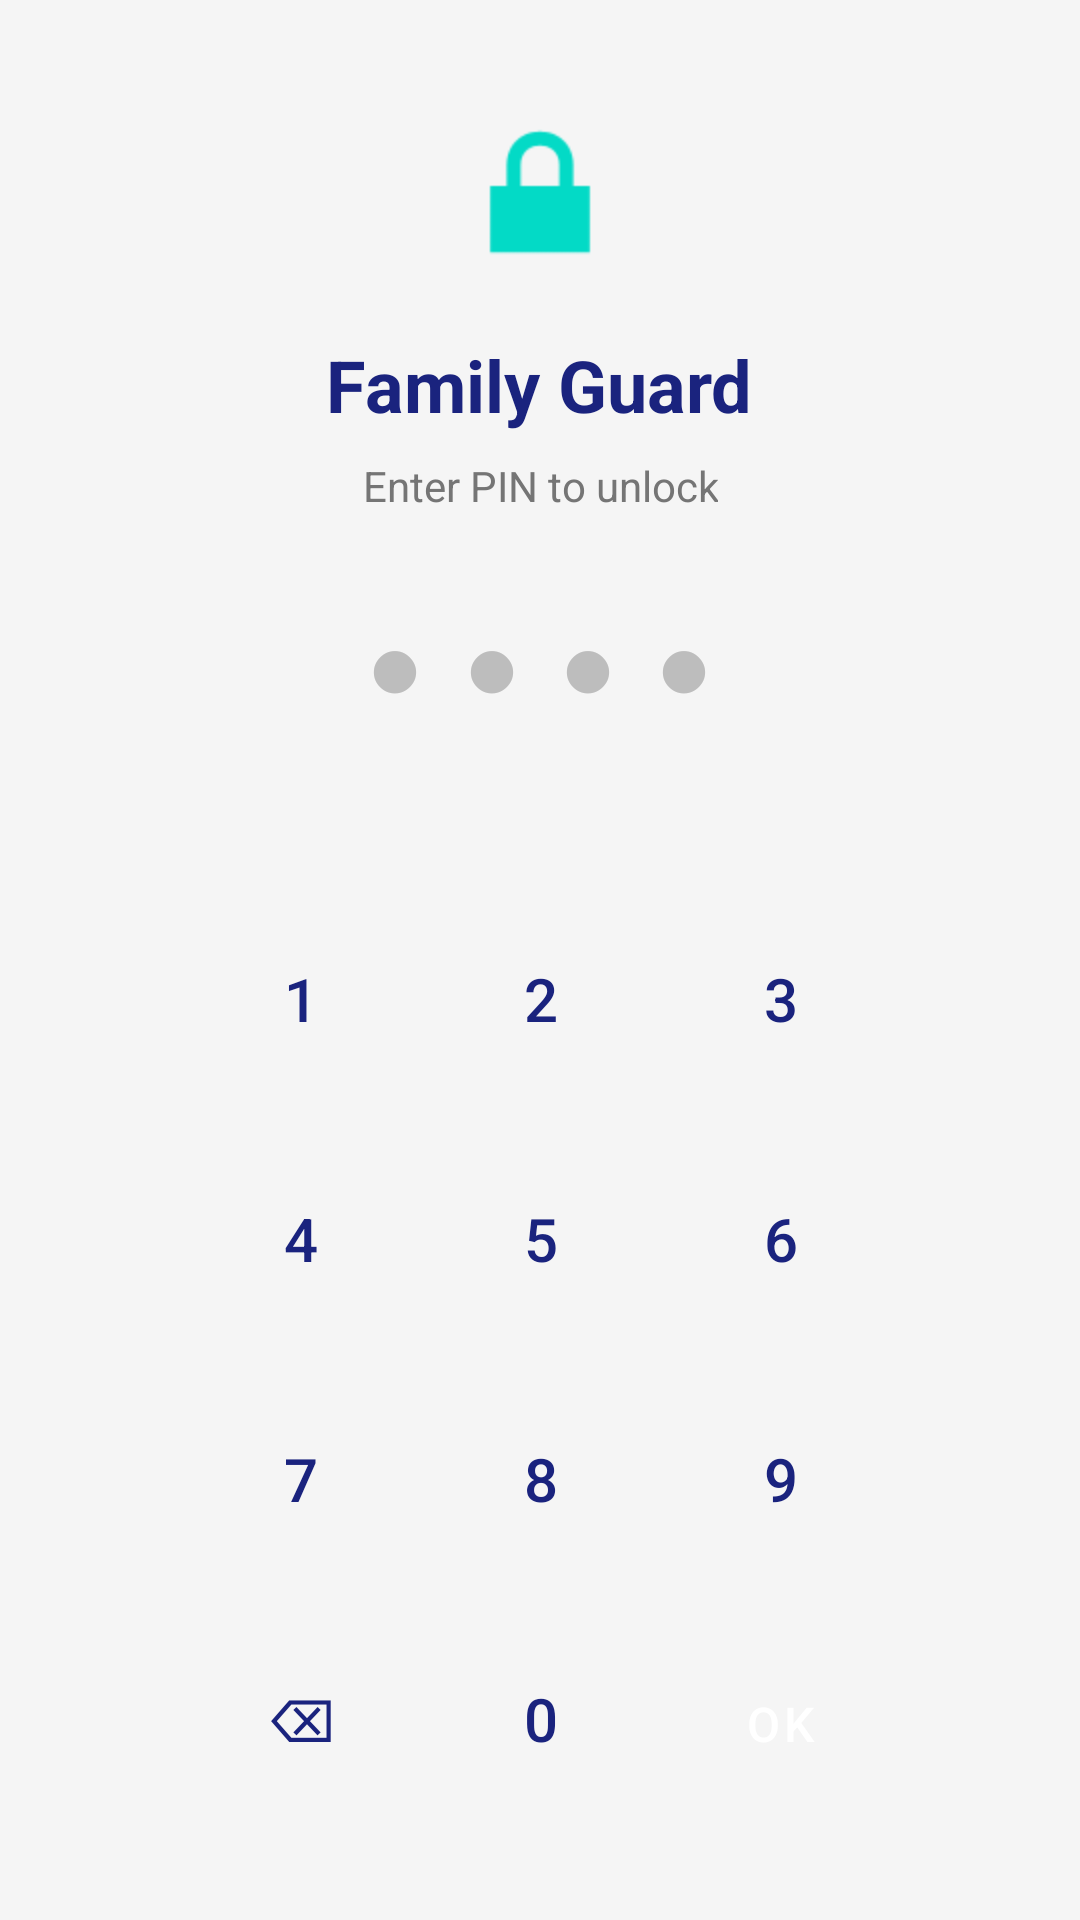

Screen size 1080 × 1920. Icon name, then its box in pixels as (x1, y1, x2, y2):
lock: (489, 130, 591, 254)
